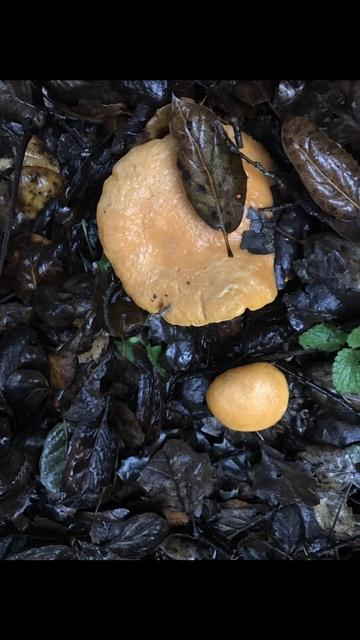Edible Mushroom: (94, 118, 279, 326), (201, 362, 295, 437)
